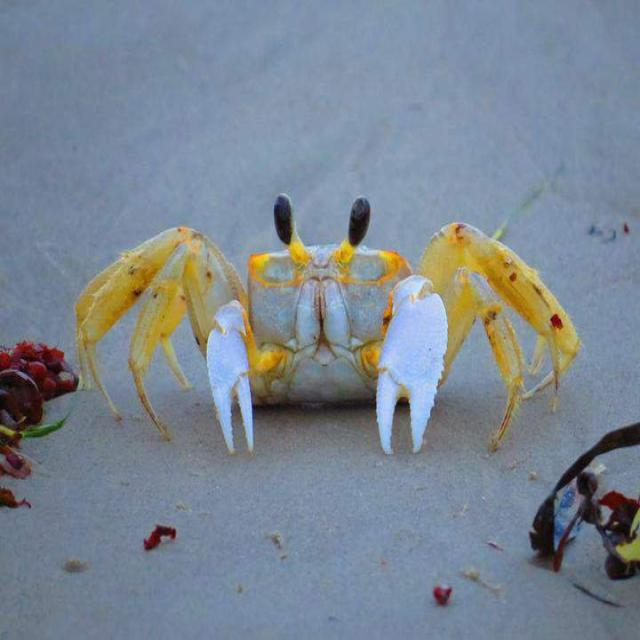crab: (142, 175, 475, 446)
